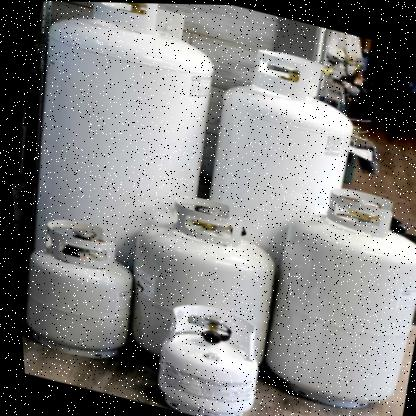gas-tank: (227, 163, 415, 415), (96, 177, 313, 392), (11, 206, 156, 376), (123, 285, 287, 415)
